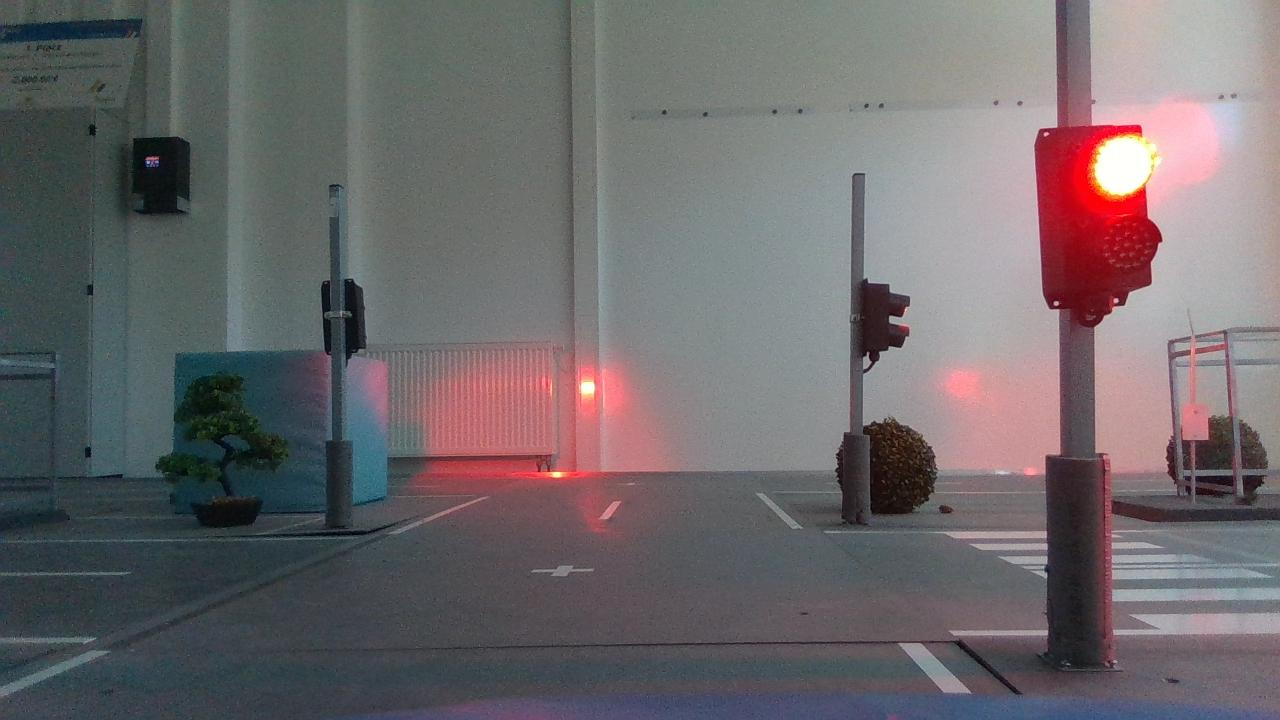traffic_light_red: (1017, 114, 1174, 327)
